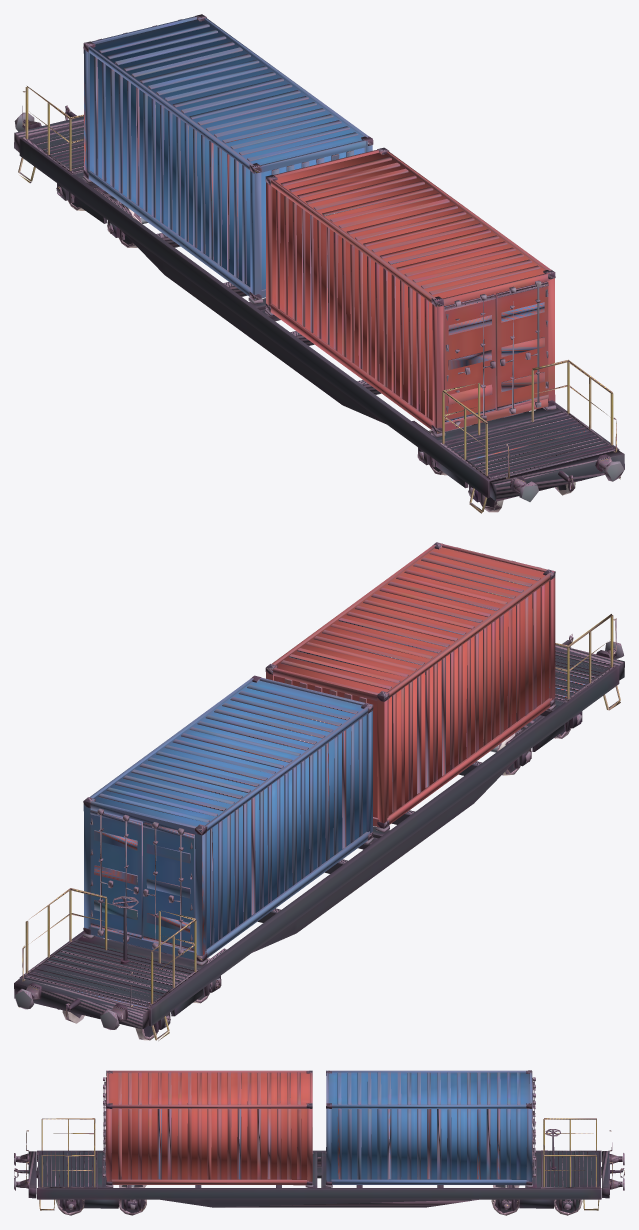
Rendered from freight-container-car.glb.
The picture shows the model from 3 angles, top to bottom: view 1: azimuth 30°, elevation 25°; view 2: azimuth 150°, elevation 25°; view 3: azimuth 270°, elevation 25°; orthographic projection. The views are drawn at different scales.
Parts seen in each view (by area): view 1: freight-container-car_body; view 2: freight-container-car_body; view 3: freight-container-car_body.
Part boxes in pixels (x1,y1,x2,y2): freight-container-car_body: [14, 14, 624, 513]; freight-container-car_body: [14, 542, 624, 1040]; freight-container-car_body: [14, 1070, 624, 1215].
Size of the model in its own units: 2.86 by 3.78 by 17.97.
Materials: 1 (1 with a texture image).
